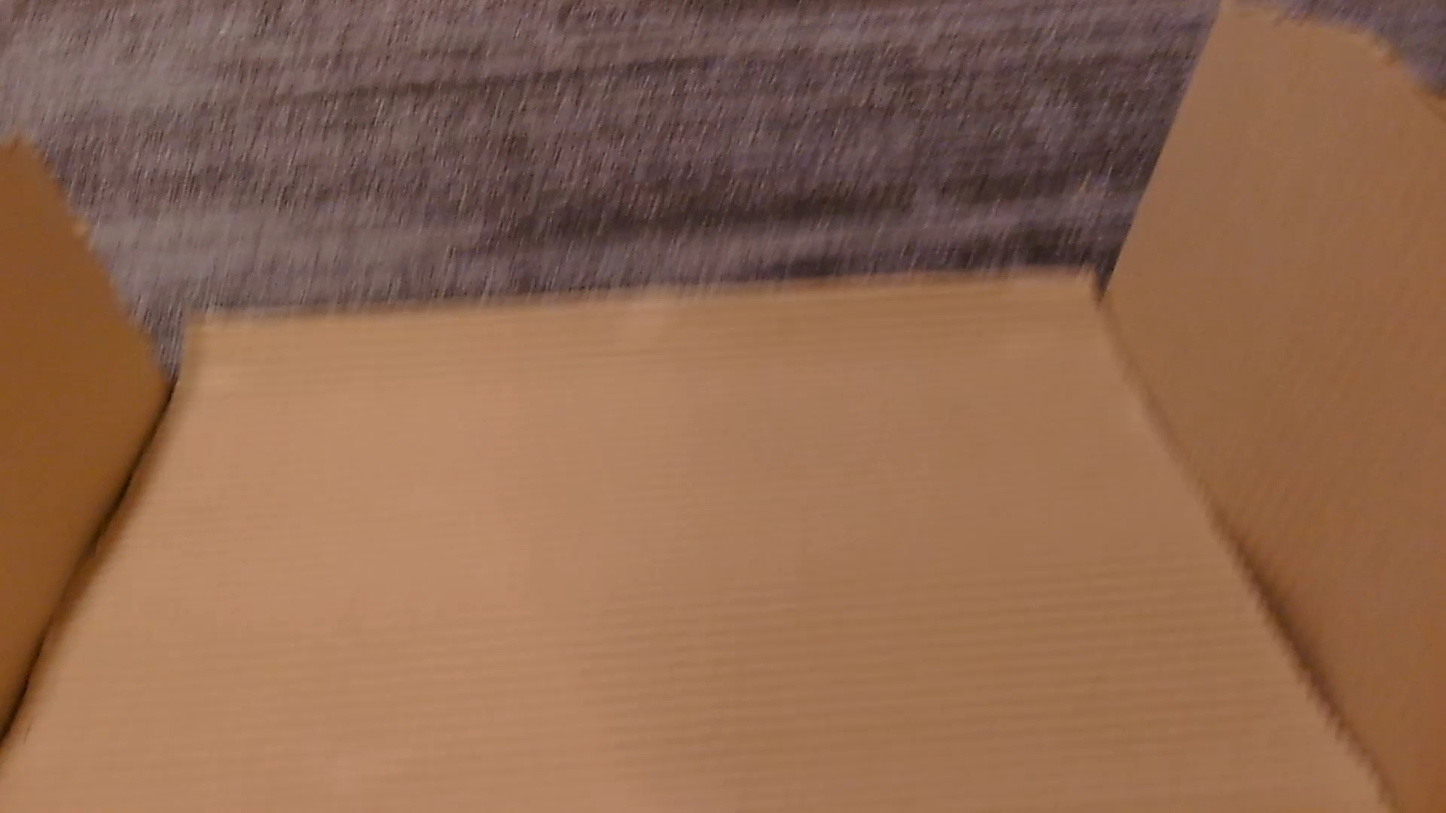Ramp: (0, 6, 1445, 812)
